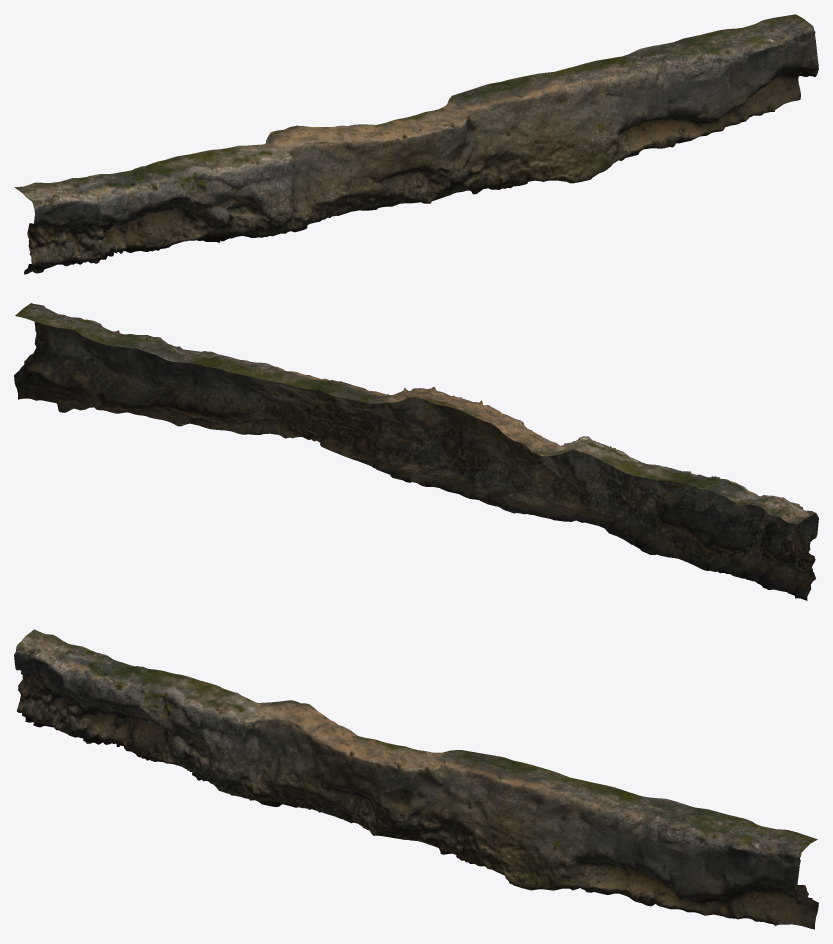
Rendered from coastal_cliff.glb.
3 views of the same model, one above another, from view 1: azimuth 30°, elevation 25°; view 2: azimuth 150°, elevation 25°; view 3: azimuth 330°, elevation 25° (orthographic). The views are drawn at different scales.
Visible parts, largest first — view 1: coastal_cliff_01_LOD0; view 2: coastal_cliff_01_LOD0; view 3: coastal_cliff_01_LOD0.
Part boxes in pixels (x1,y1,x2,y2): coastal_cliff_01_LOD0: [14, 14, 818, 274]; coastal_cliff_01_LOD0: [14, 303, 818, 600]; coastal_cliff_01_LOD0: [14, 629, 818, 929].
Size of what is drawn, in the model's own units: 91.96 by 10.29 by 10.95.
1 material, 1 textured.
